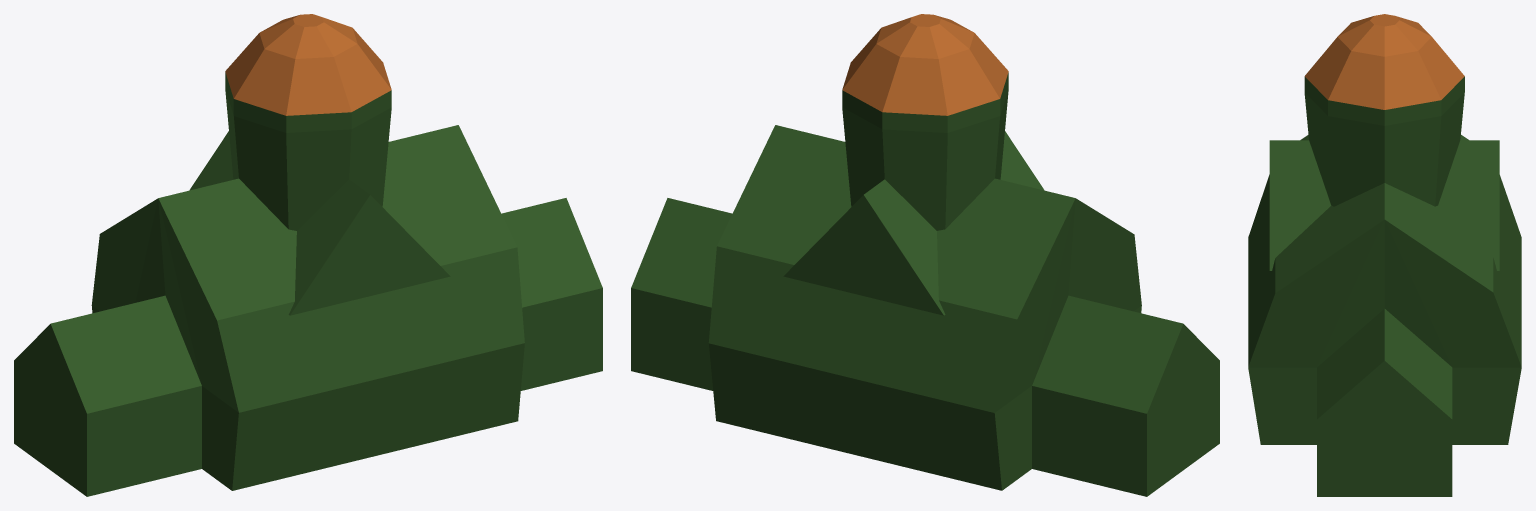
Rendered from City_Hall_colider.fbx.
3 views of the same model, side by side, from view 1: azimuth 30°, elevation 25°; view 2: azimuth 150°, elevation 25°; view 3: azimuth 270°, elevation 25° (orthographic). The views are drawn at different scales.
Visible parts, largest first — view 1: City_Hall_colider; view 2: City_Hall_colider; view 3: City_Hall_colider.
Boxes of the visible parts, left/top/right/bottom form: City_Hall_colider: left=14, top=14, right=602, bottom=496; City_Hall_colider: left=631, top=14, right=1219, bottom=496; City_Hall_colider: left=1248, top=14, right=1521, bottom=496.
Bounding box in the file's own units: 2187 × 1567 × 1081.
